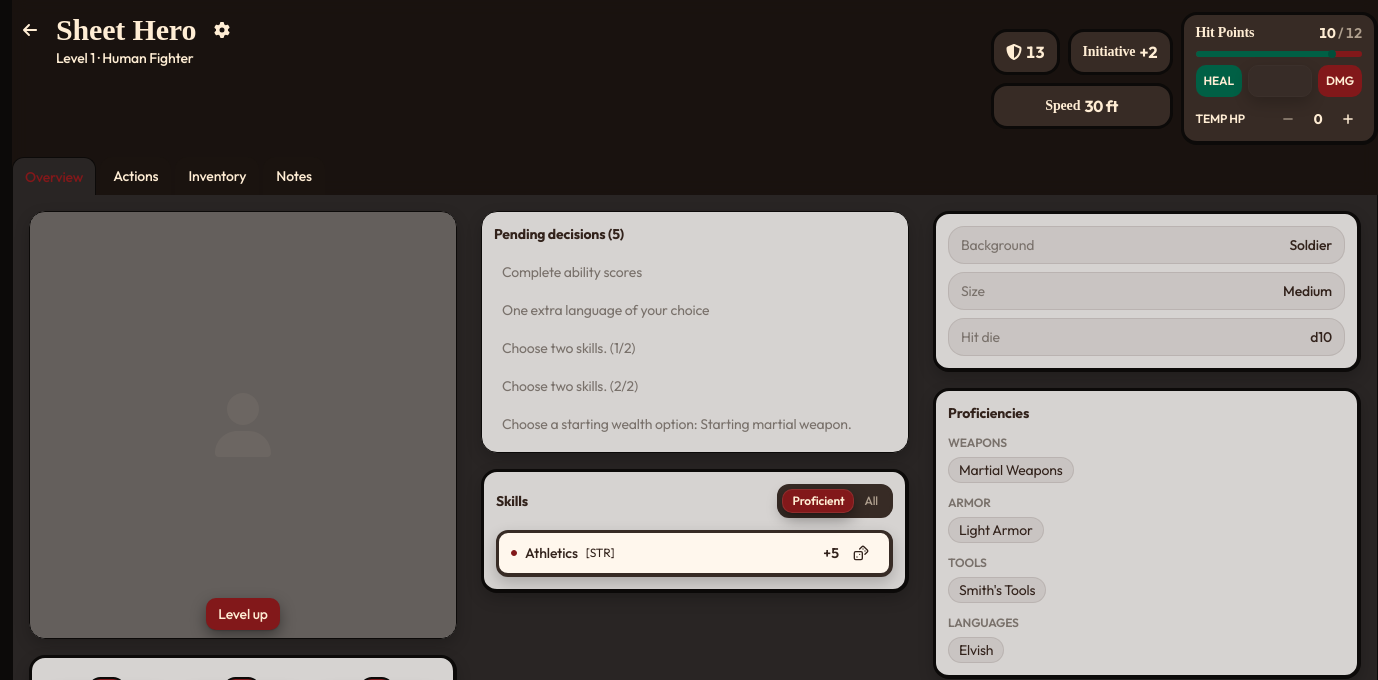
Scenario: PlayerSheet › clears ability filter when returning to proficient-only mode
Click the radio button labelled "All".
click(871, 501)  # box [854, 489, 888, 513]
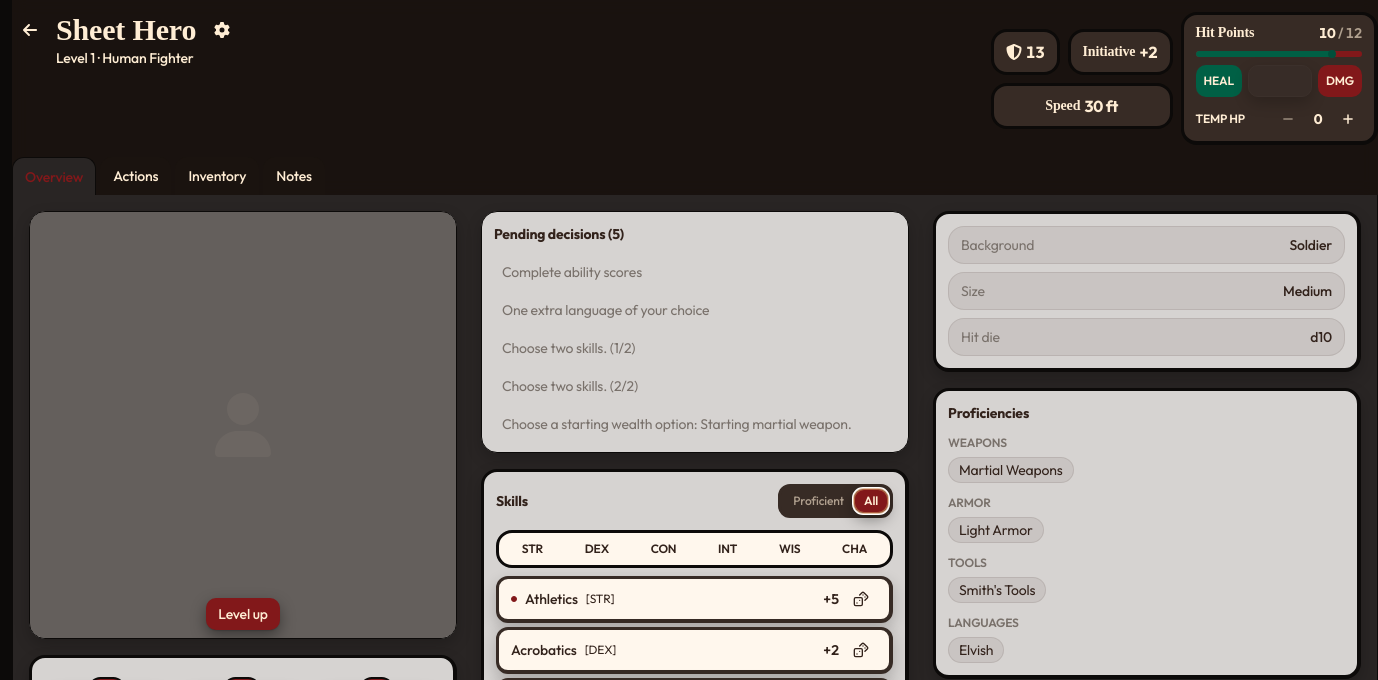
Click the tab "DEX".
click(597, 549)  # box [577, 537, 617, 561]
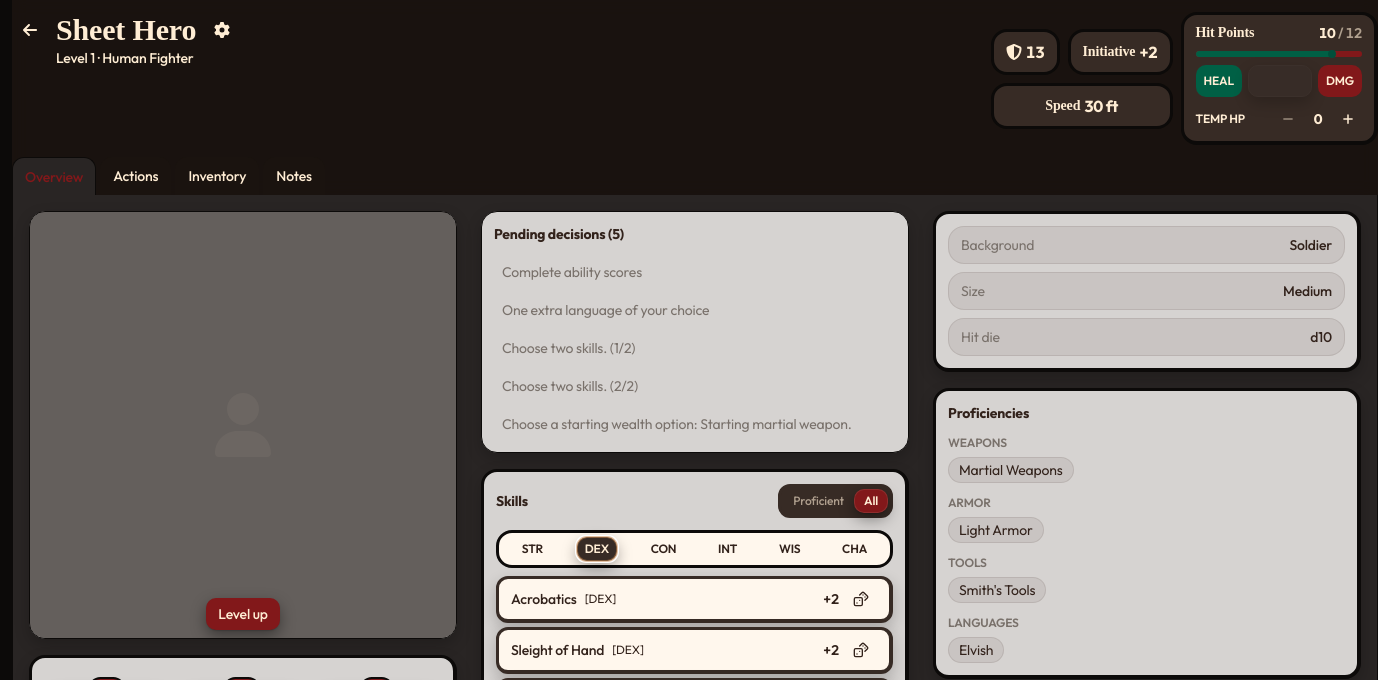
Expected: the text "Athletics" is gone
Click the radio button labelled "Proficient".
click(819, 501)  # box [783, 489, 854, 513]
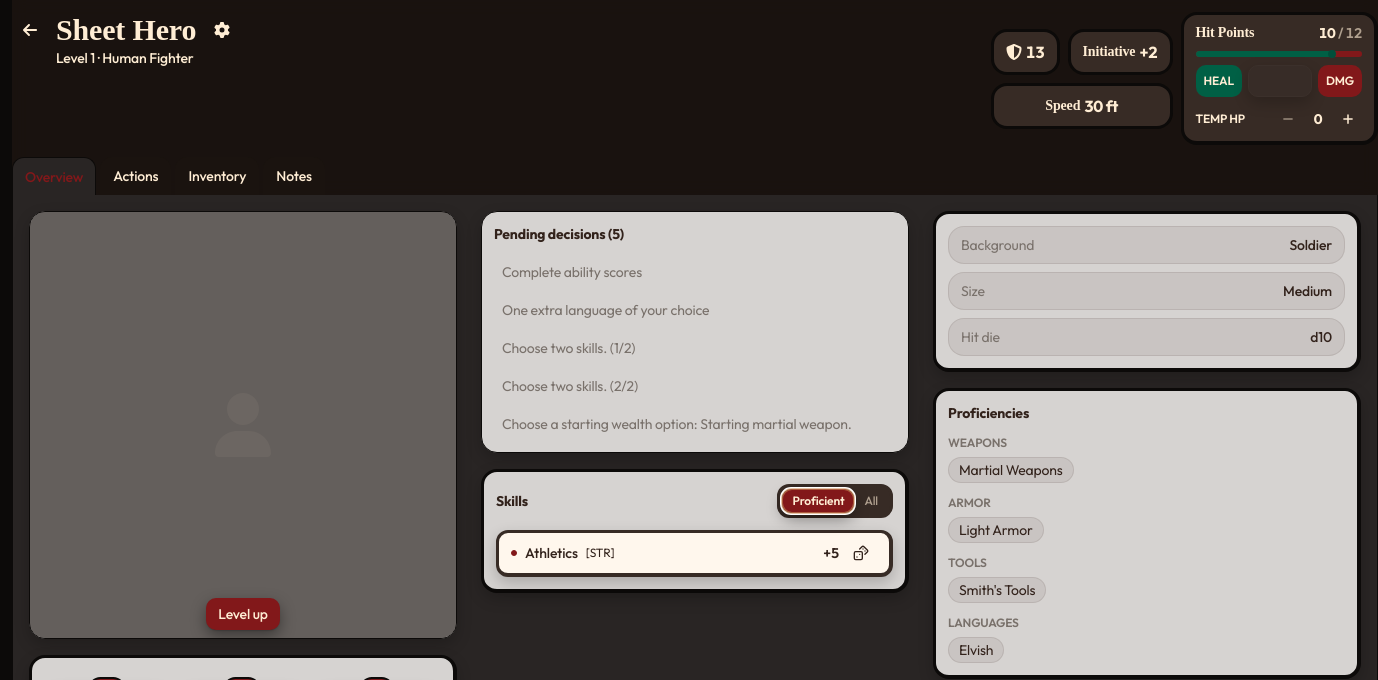
Expected: the text "Athletics" is shown, [525, 543, 578, 563]
